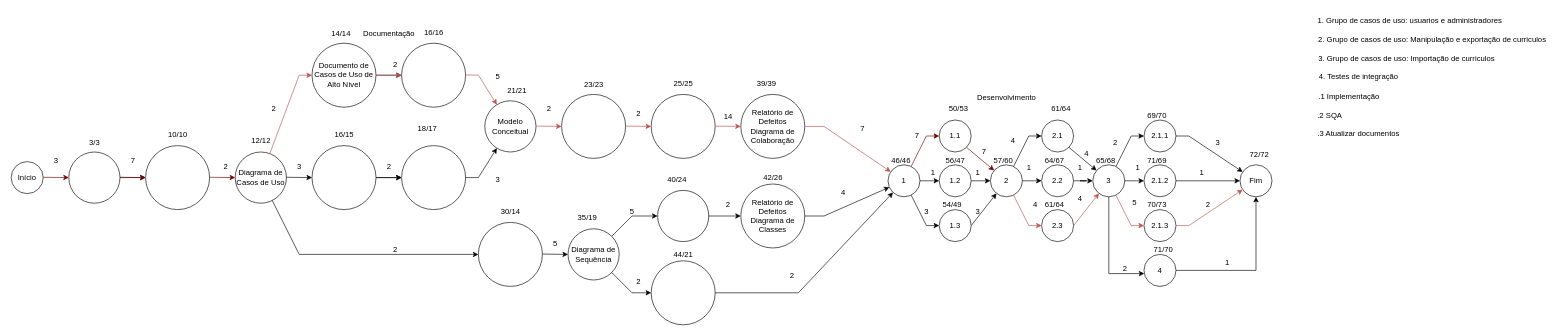
The diagram is 1565 pixels wide and 336 high, and some of its shapes have lost their labels. The centre of each missing label's shape, as x and y in pixels:
Diagrama de Classes: (683,216)
Diagrama de Colaboração: (683,126)
Documento de Casos de Uso Expandido: (343,177)
Documento de Requisitos: (94,177)
Relatório de Defeitos Casos de Uso: (510,254)
Relatório de Defeitos Casos de Uso de Alto Nível: (433,75)
Relatório de Defeitos Casos de Uso Expandido: (433,177)
Relatório de Defeitos Diagrama de Sequência: (683,292)
Relatório de Defeitos Documento de Requisitos: (177,177)
Relatório de Defeitos Modelo Conceitual: (593,126)
